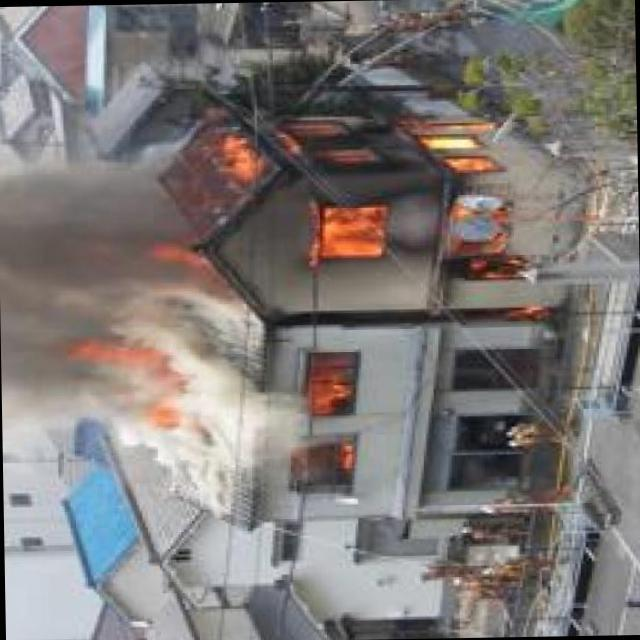Fire: (158, 118, 539, 285), (298, 355, 360, 488), (74, 340, 180, 382)
